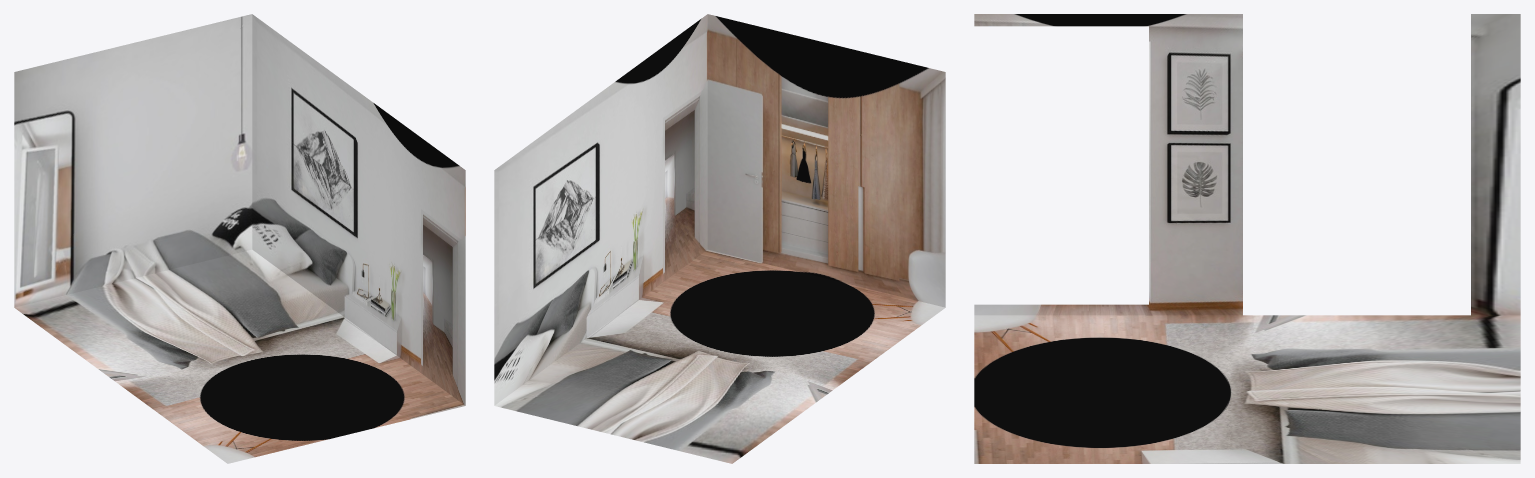
The model's file is room.glb.
The picture shows the model from 3 angles, left to right: view 1: azimuth 30°, elevation 25°; view 2: azimuth 150°, elevation 25°; view 3: azimuth 270°, elevation 25°; orthographic projection. The views are drawn at different scales.
Parts seen in each view (by area): view 1: room; view 2: room; view 3: room.
Part boxes in pixels (x1,y1,x2,y2): room: (14,14,465,463); room: (494,14,945,463); room: (974,14,1520,463).
Bounding box in the file's own units: 3.23 × 3.06 × 5.02.
6 materials, 6 textured.
